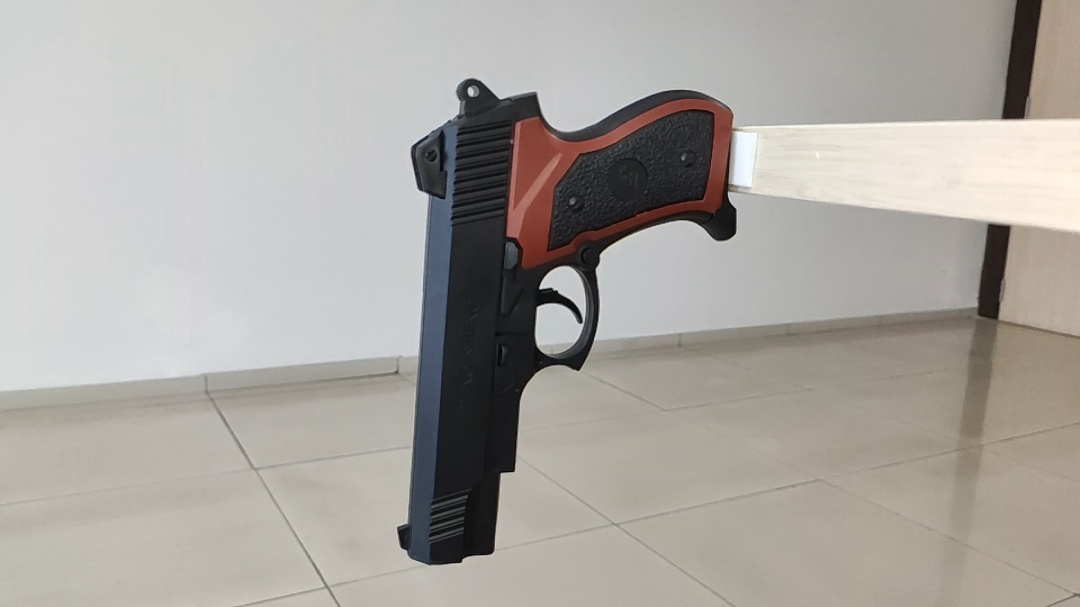gun: (389, 77, 740, 573)
